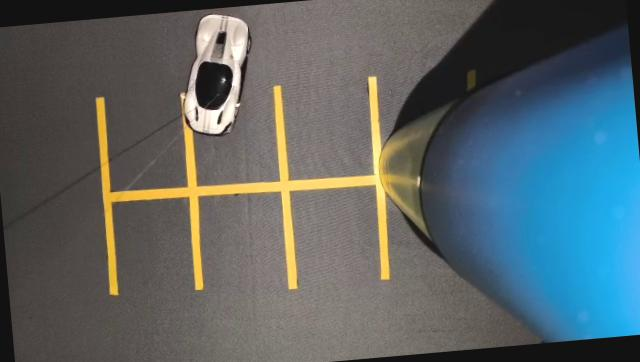toy_car: (168, 8, 270, 144)
